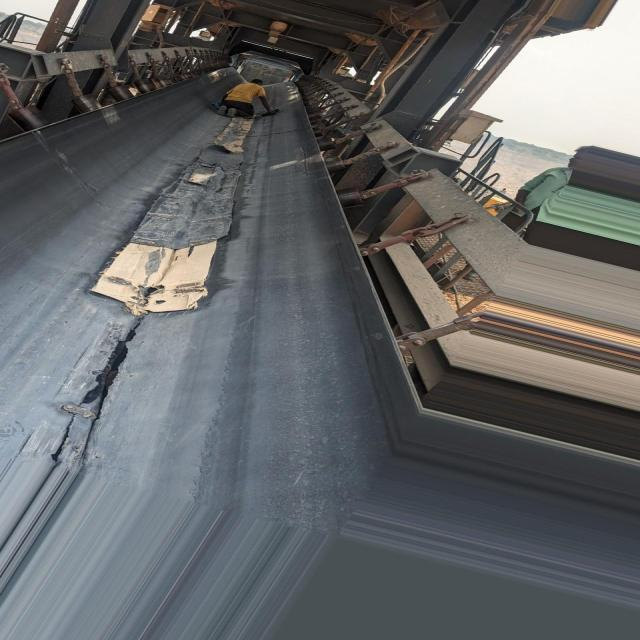Human: (219, 78, 278, 119)
Roller: (6, 71, 198, 133), (304, 105, 363, 207)
Tear: (81, 329, 135, 403)
patch work: (87, 145, 243, 310)
